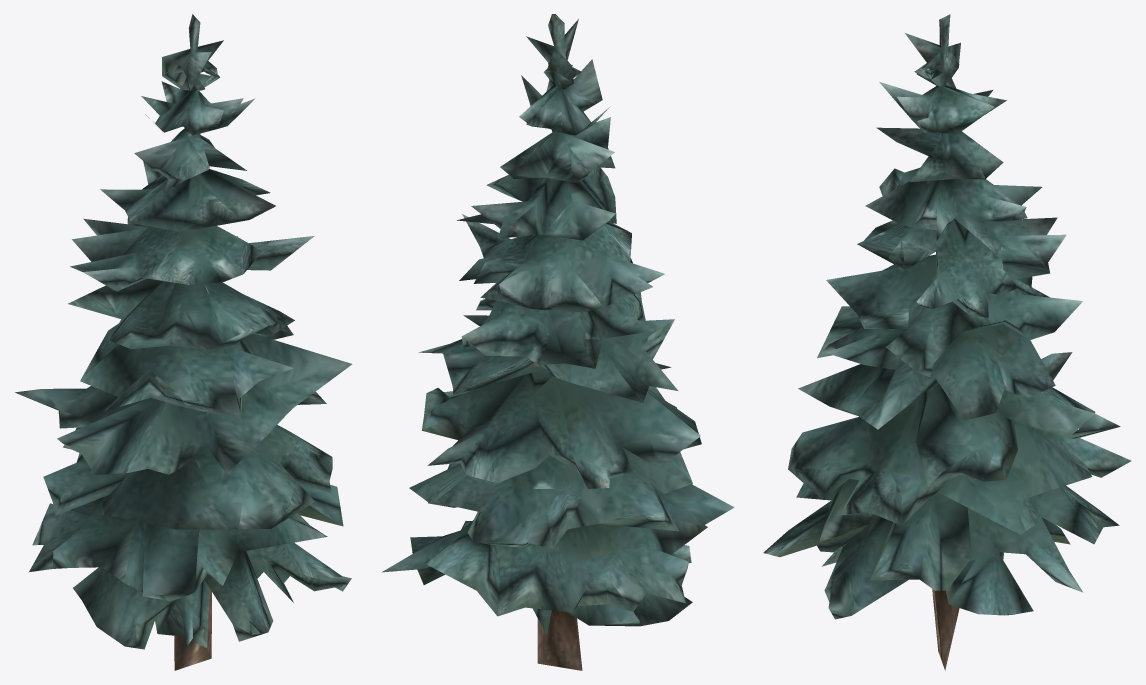
Rendered from tree_spruce.glb.
3 renders of one model, left to right at view 1: azimuth 30°, elevation 25°; view 2: azimuth 150°, elevation 25°; view 3: azimuth 270°, elevation 25°, orthographic.
Parts seen in each view (by area): view 1: tripo_node_d07ca15b-d3bb-4a2b-b256-60b62f8ae2f5; view 2: tripo_node_d07ca15b-d3bb-4a2b-b256-60b62f8ae2f5; view 3: tripo_node_d07ca15b-d3bb-4a2b-b256-60b62f8ae2f5.
Part boxes in pixels (box(x1,y1,x2,y2)): tripo_node_d07ca15b-d3bb-4a2b-b256-60b62f8ae2f5: box(15, 14, 352, 670); tripo_node_d07ca15b-d3bb-4a2b-b256-60b62f8ae2f5: box(382, 14, 734, 670); tripo_node_d07ca15b-d3bb-4a2b-b256-60b62f8ae2f5: box(763, 14, 1131, 670).
Size of the model in its own units: 0.4101 by 0.9131 by 0.4706.
1 material, 1 textured.
